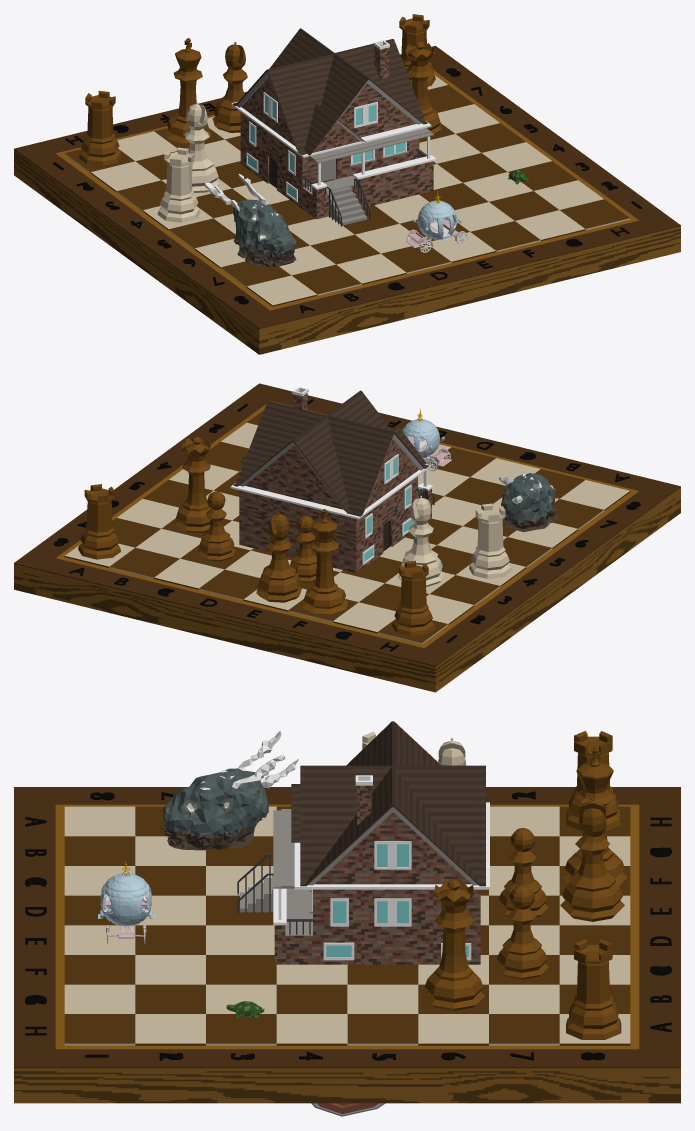
The picture shows the model from 3 angles, top to bottom: view 1: azimuth 30°, elevation 25°; view 2: azimuth 150°, elevation 25°; view 3: azimuth 270°, elevation 25°; orthographic projection. The views are drawn at different scales.
Parts seen in each view (by area): view 1: Cube.002, Cube.117, OBJRANDOM_METEORITE, VEHICLES_FANTASY_CARRIAGE; view 2: Cube.002, Cube.117, OBJRANDOM_METEORITE, VEHICLES_FANTASY_CARRIAGE; view 3: Cube.002, Cube.117, OBJRANDOM_METEORITE, VEHICLES_FANTASY_CARRIAGE, UNDERGROUND_TREASURE.
Part boxes in pixels (x1,y1,x2,y2): Cube.002: (14,14,680,354); Cube.117: (231,28,436,226); OBJRANDOM_METEORITE: (204,174,296,267); VEHICLES_FANTASY_CARRIAGE: (406,190,467,252); Cube.002: (14,383,680,692); Cube.117: (230,387,434,572); OBJRANDOM_METEORITE: (498,473,558,531); VEHICLES_FANTASY_CARRIAGE: (402,409,451,471); Cube.002: (14,731,680,1103); Cube.117: (237,721,489,964); OBJRANDOM_METEORITE: (161,731,298,850); VEHICLES_FANTASY_CARRIAGE: (98,860,154,943); UNDERGROUND_TREASURE: (311,1103,385,1116).
Bounding box in the file's own units: 3981 × 2201 × 4012.
Materials: 39 (3 with a texture image).
